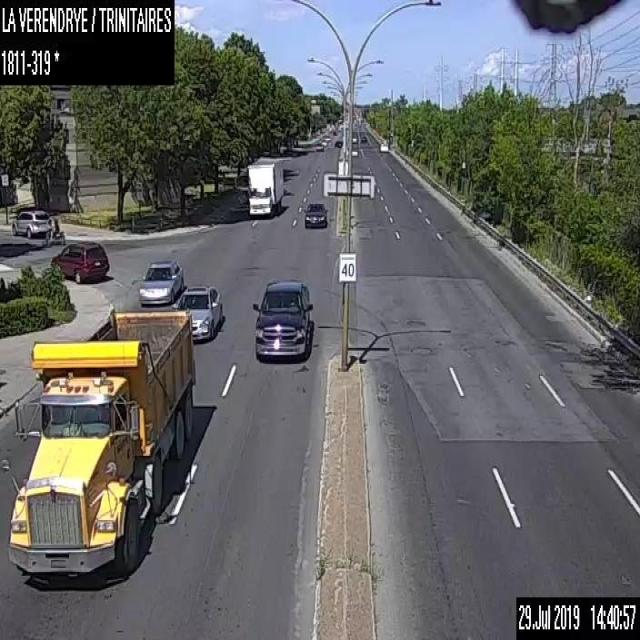vehicle: (0, 304, 195, 578), (252, 276, 313, 361), (172, 284, 222, 342), (50, 240, 109, 282), (246, 155, 283, 215), (138, 258, 183, 304), (10, 207, 64, 244), (303, 200, 328, 227), (378, 141, 388, 151), (334, 139, 342, 148), (315, 142, 323, 150), (325, 136, 330, 143), (321, 139, 326, 145), (360, 136, 366, 141)
